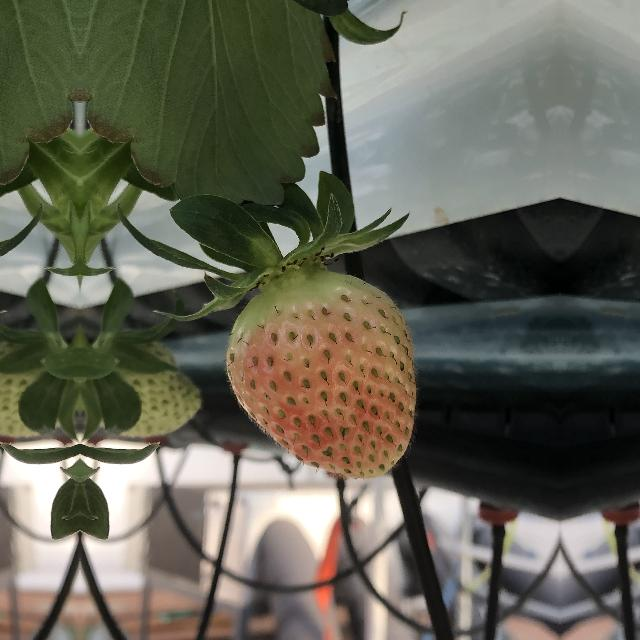Health_25: (96, 348, 204, 444), (0, 347, 64, 444)
Health_75: (210, 264, 424, 484)
